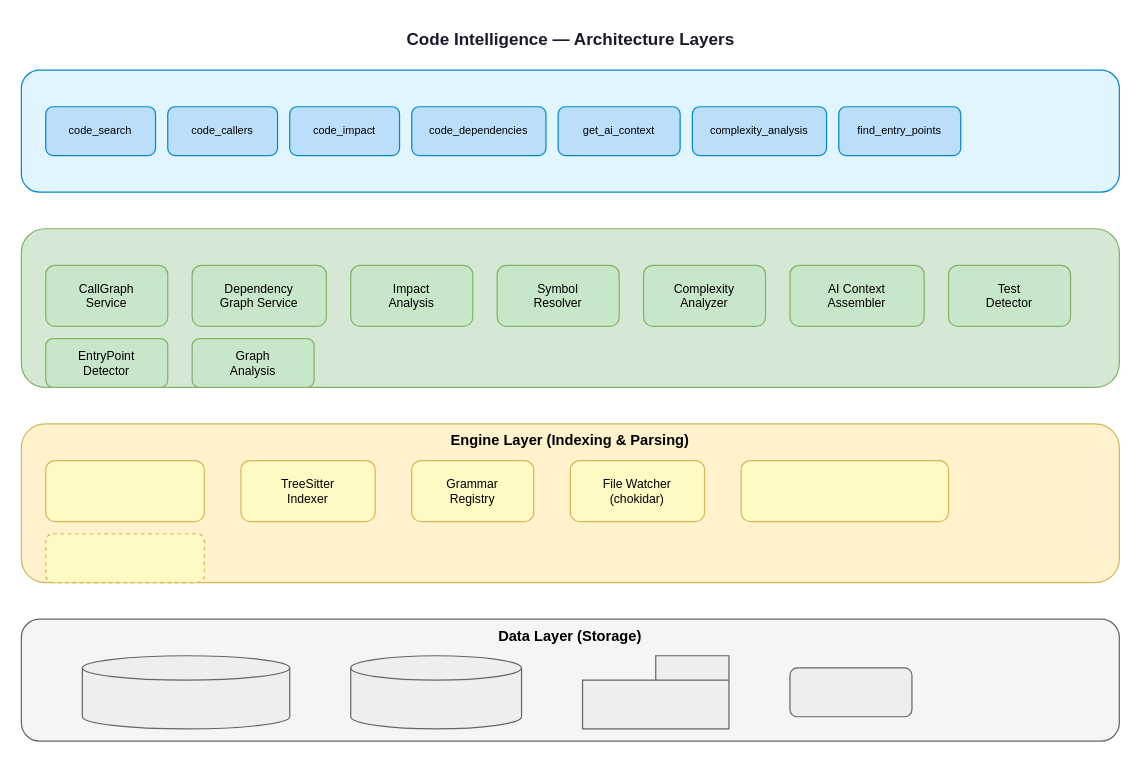
Image size: 1141x763. Some labels were removed from this diagram. Each missing label, with the box of its shape:
FTS5 Index (symbols_fts): (350, 655, 522, 729)
IndexingEngine (Orchestrator): (45, 459, 204, 522)
Language Parsers (TS/Py/Kt/Java/Go/Rust): (740, 459, 949, 522)
MCP Tool Layer (Entry Point): (20, 69, 1119, 192)
Service Layer (Business Logic): (20, 228, 1119, 387)
Signature Extractor (Regex): (45, 533, 204, 583)
SQLite DB (symbols, relationships, files): (81, 655, 290, 729)
WASM Grammars: (789, 667, 912, 717)
Workspace Filesystem: (581, 655, 729, 729)
